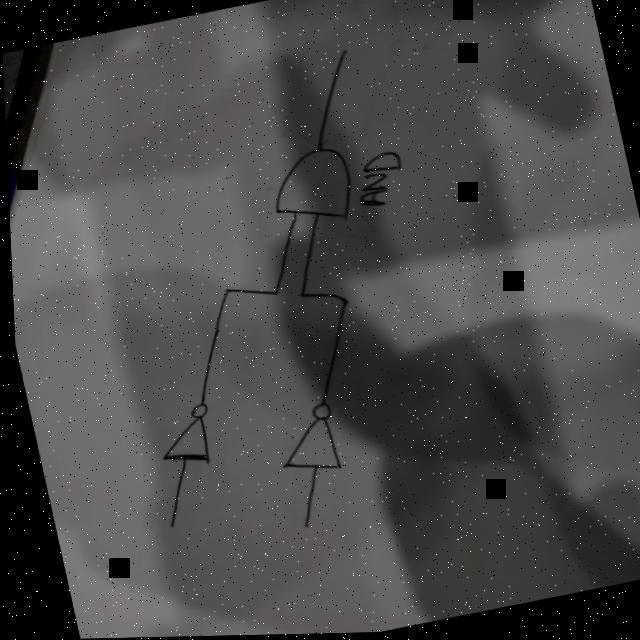junction: (214, 286, 236, 301), (330, 293, 349, 310), (267, 289, 281, 300), (292, 291, 307, 301)
terminal: (292, 514, 313, 536), (159, 517, 175, 533), (335, 46, 351, 61)
text: (345, 148, 410, 214)
